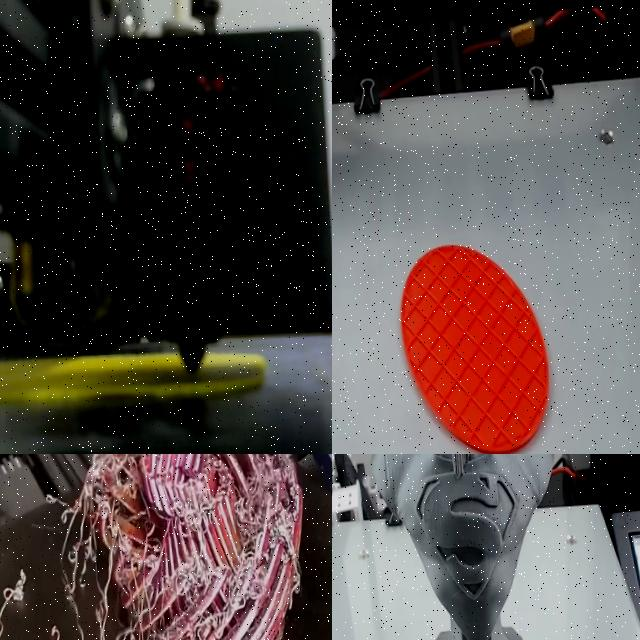spaghetti: (0, 454, 329, 640)
